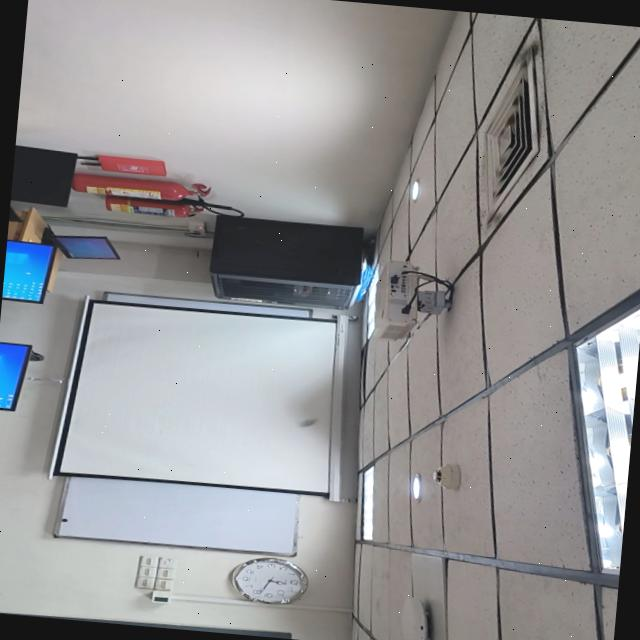Fire Extinguisher: (70, 170, 220, 203), (100, 192, 244, 225)
Light: (556, 291, 640, 573), (356, 462, 381, 542), (408, 470, 426, 500), (405, 178, 422, 202)
Monitor: (9, 143, 77, 208), (1, 240, 56, 306), (44, 230, 122, 262), (0, 341, 31, 412)
Projector: (362, 260, 456, 346)
